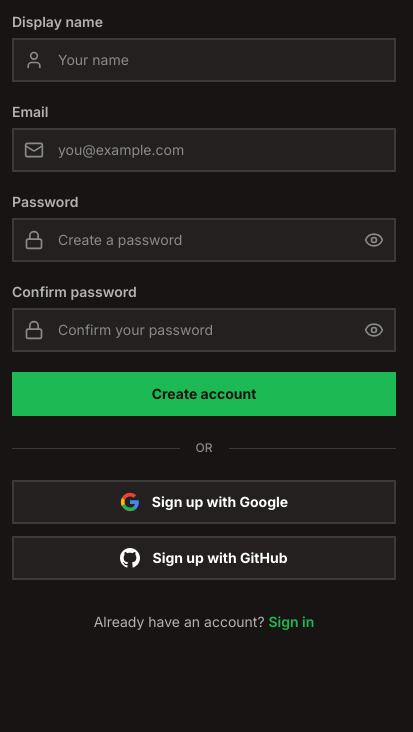
SignupForm › renders password strength indicator when typing
Type "Abcdefg" into the password field with placeholder "Create a password" at (204, 240), box left=12, top=218, right=396, bottom=262
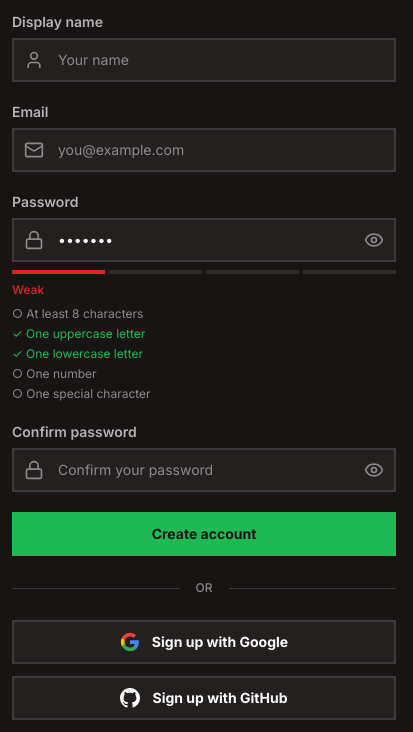
Check: the text "Weak" is shown, box left=12, top=282, right=44, bottom=297
